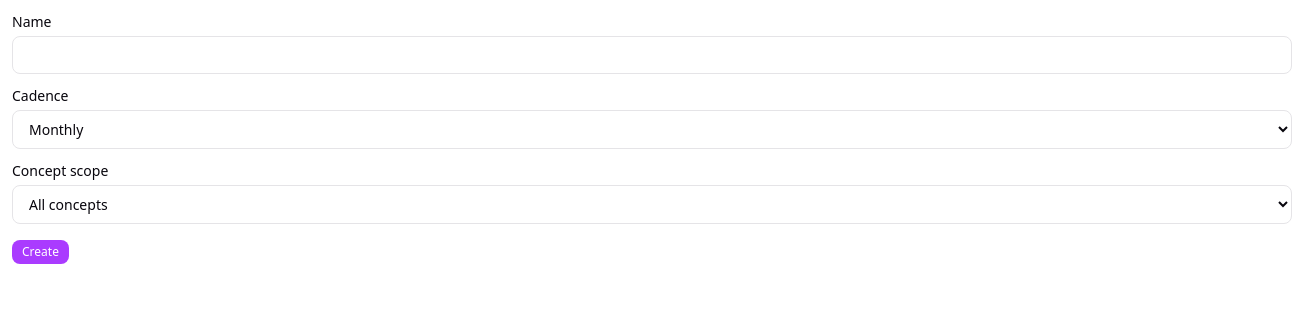
Test: ProcessForm › shows error alert on API failure
Type "x" into the field labelled "Name" at (652, 55), box [12,36,1292,74]
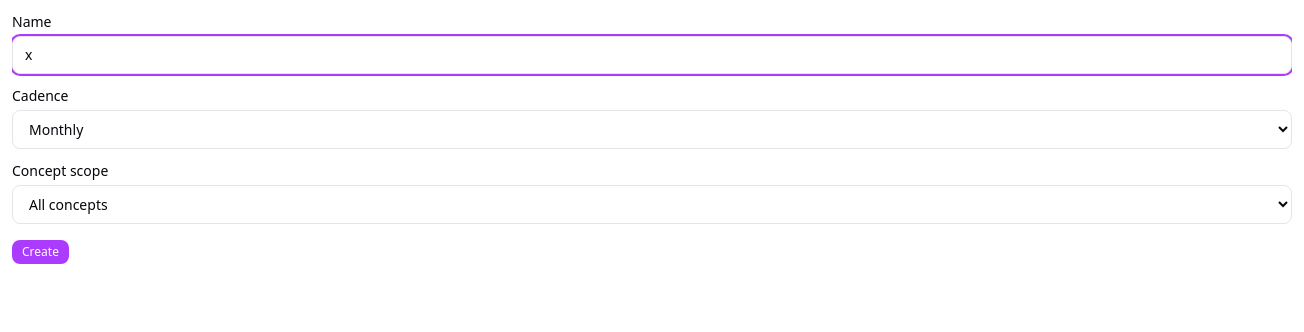
Click the button "Create" at (40, 252), box [12,240,69,264]
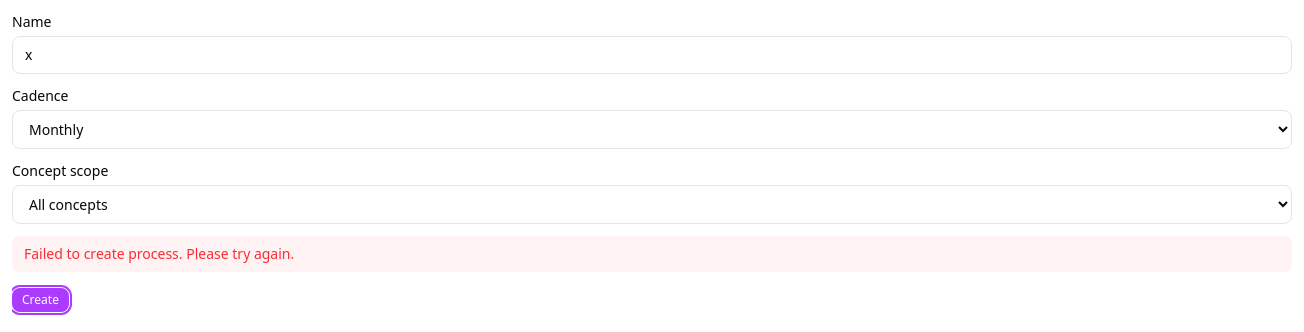
Result: the message "Failed to create process. Please try again." is shown at [12,236,1292,272]
